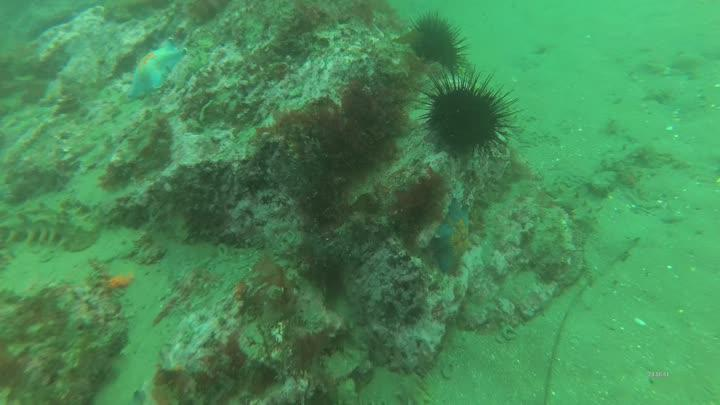urchin: (415, 72, 511, 161), (402, 13, 474, 72)
